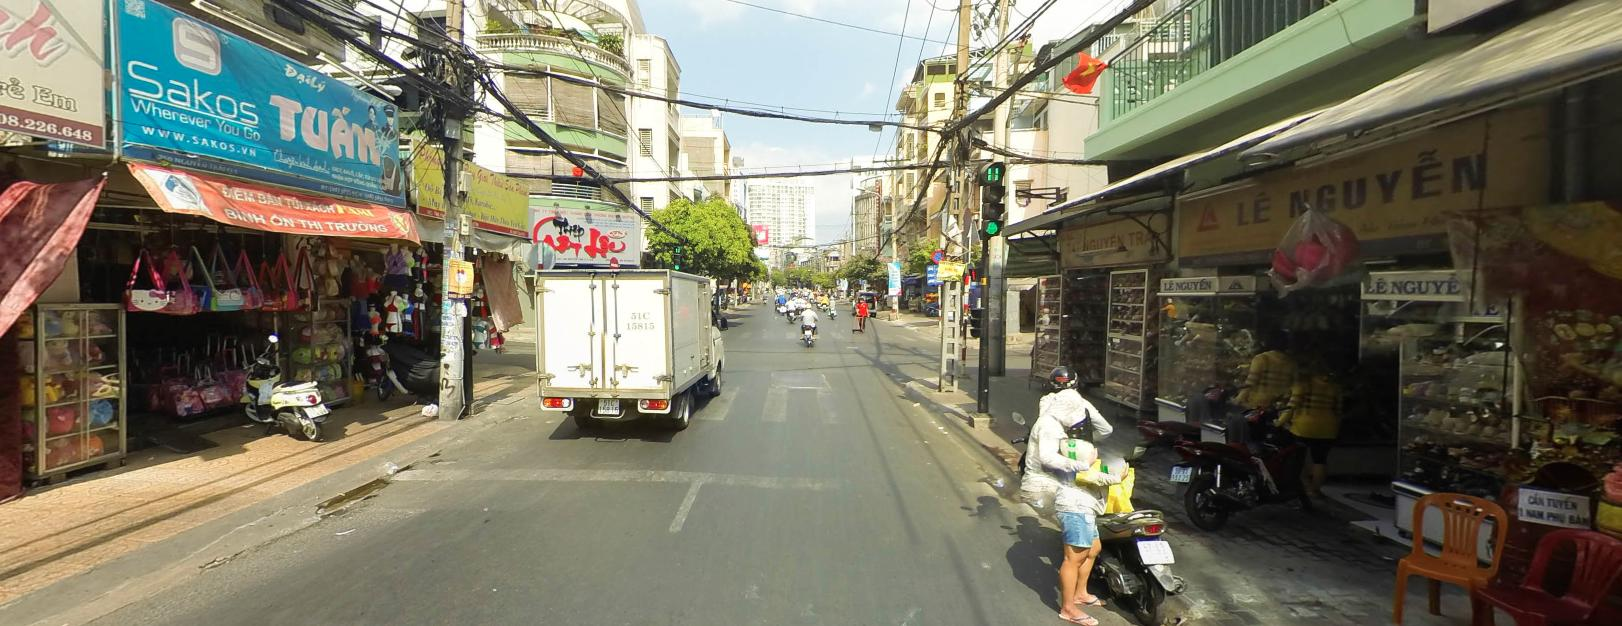Cam dung va do: (932, 247, 944, 262)
